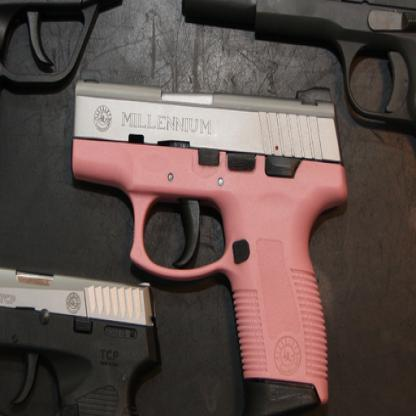gun: (71, 76, 347, 414), (179, 0, 415, 327), (0, 254, 164, 415), (0, 0, 137, 178)
